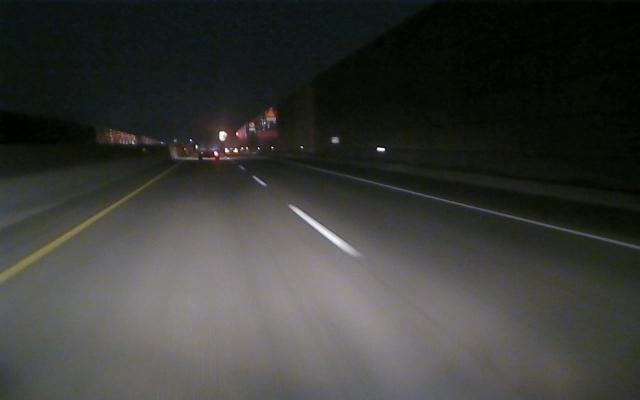lane: (332, 171, 638, 251), (1, 186, 143, 283), (253, 178, 365, 258)
